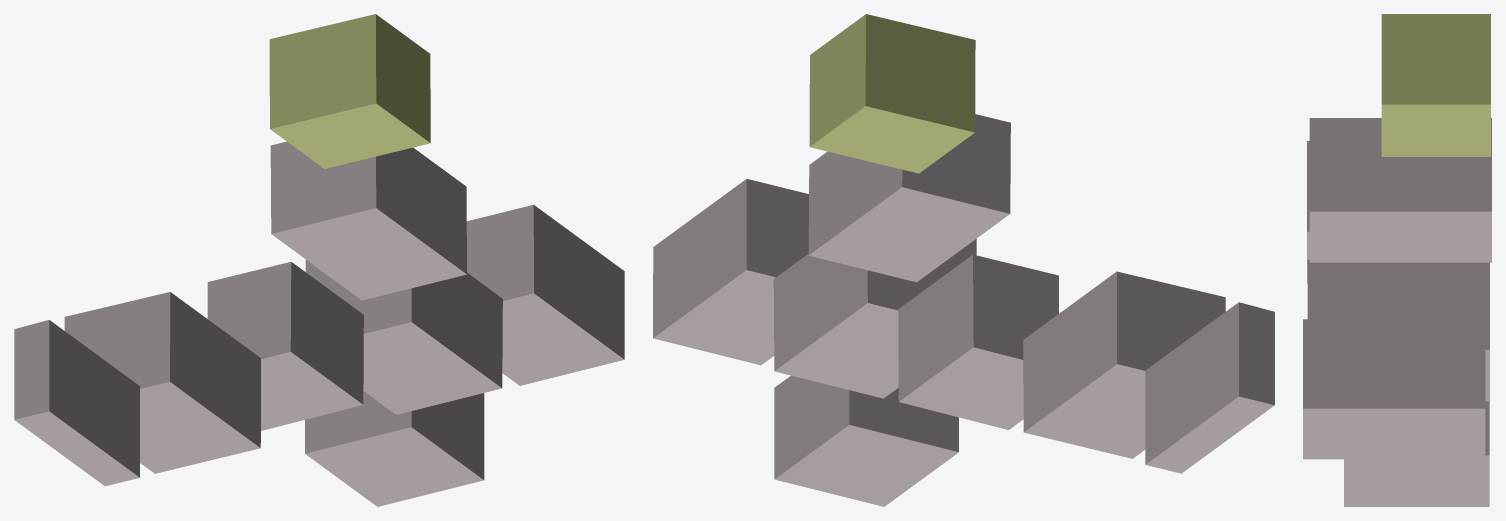
3 views of the same model, side by side, from view 1: azimuth 30°, elevation 25°; view 2: azimuth 150°, elevation 25°; view 3: azimuth 270°, elevation 25° (orthographic). The views are drawn at different scales.
Visible parts, largest first — view 1: 0_2_2_0_0_0_1_2_1; view 2: 0_2_2_0_0_0_1_2_1; view 3: 0_2_2_0_0_0_1_2_1.
Part boxes in pixels (x1,y1,x2,y2): 0_2_2_0_0_0_1_2_1: [14, 14, 624, 506]; 0_2_2_0_0_0_1_2_1: [653, 14, 1274, 506]; 0_2_2_0_0_0_1_2_1: [1303, 14, 1491, 506].
Size of the model in its own units: 49.26 by 38.52 by 15.54.
